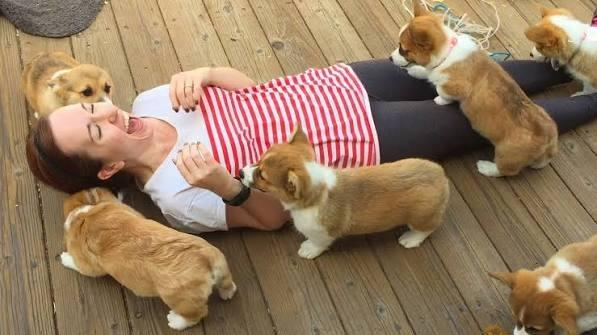adult_dog: (389, 4, 560, 181), (236, 122, 453, 261), (59, 188, 239, 332), (484, 232, 597, 335)
puppy-dog: (520, 2, 597, 106), (20, 46, 116, 126)
